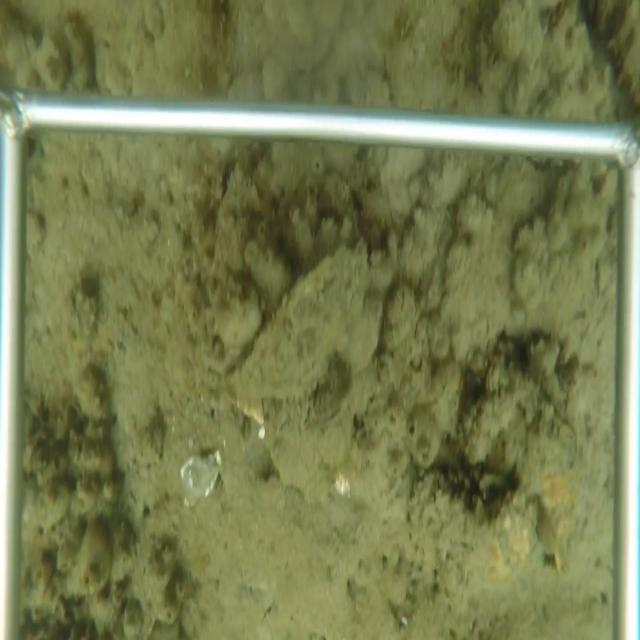Oyster-Indeterminate: (213, 243, 369, 404), (405, 468, 540, 592)
